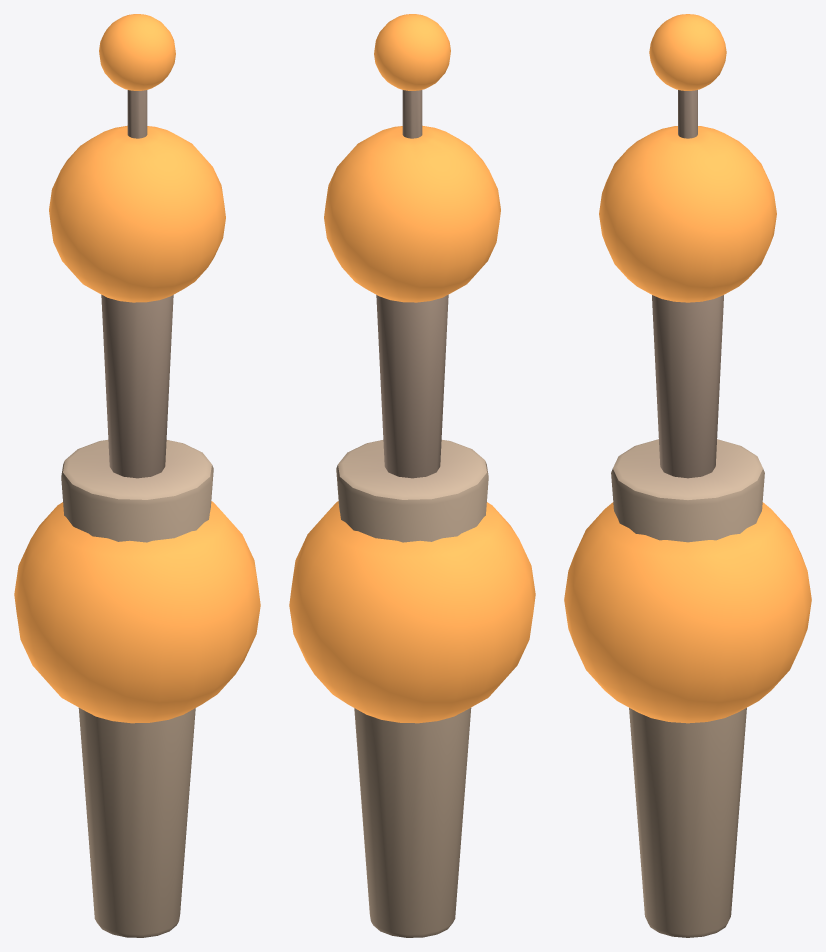
3 views of the same model, side by side, from view 1: azimuth 30°, elevation 25°; view 2: azimuth 150°, elevation 25°; view 3: azimuth 270°, elevation 25° (orthographic).
Parts seen in each view (by area): view 1: landmark_9cd252ec; view 2: landmark_9cd252ec; view 3: landmark_9cd252ec.
Part boxes in pixels (left/top/right/bottom): landmark_9cd252ec: left=14, top=14, right=260, bottom=937; landmark_9cd252ec: left=289, top=14, right=535, bottom=937; landmark_9cd252ec: left=564, top=14, right=811, bottom=937.
Bounding box in the file's own units: 3.2 × 12.9 × 3.2.
